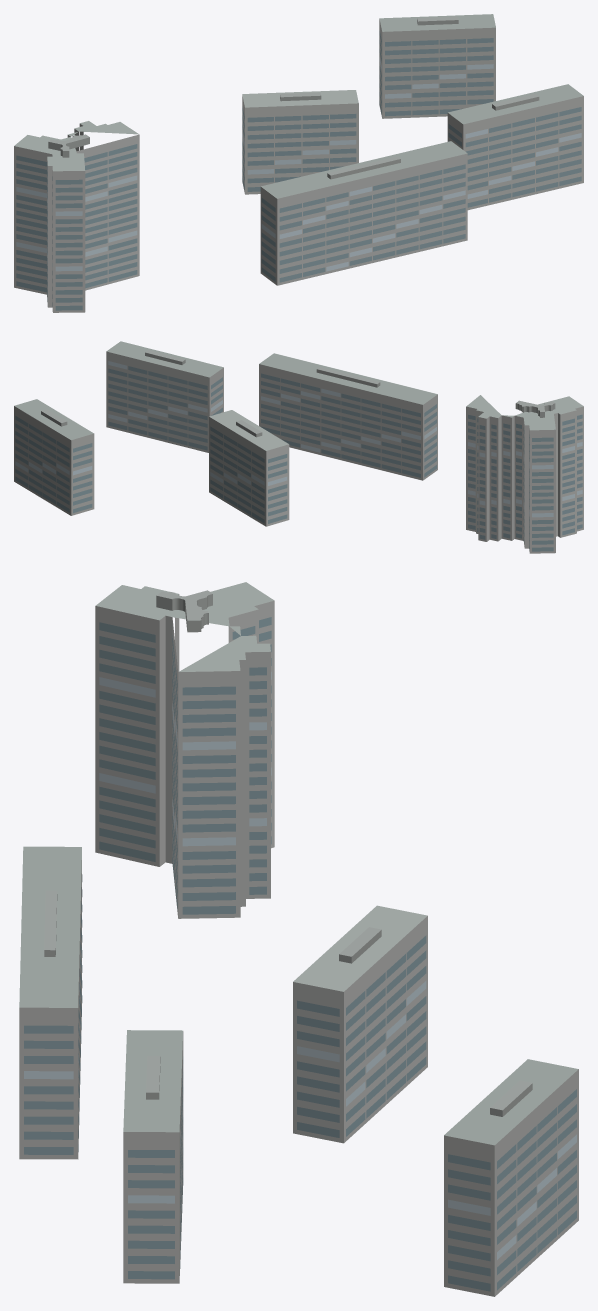
File: apt-a15884202.glb
3 renders of one model, top to bottom at view 1: azimuth 30°, elevation 25°; view 2: azimuth 150°, elevation 25°; view 3: azimuth 270°, elevation 25°, orthographic. The views are drawn at different scales.
Parts seen in each view (by area): view 1: apt-a15884202; view 2: apt-a15884202; view 3: apt-a15884202.
Part boxes in pixels (left/top/right/bottom): apt-a15884202: left=14, top=14, right=583, bottom=312; apt-a15884202: left=14, top=341, right=583, bottom=553; apt-a15884202: left=19, top=582, right=578, bottom=1296.
Size of the model in its own units: 202 by 52 by 102.
